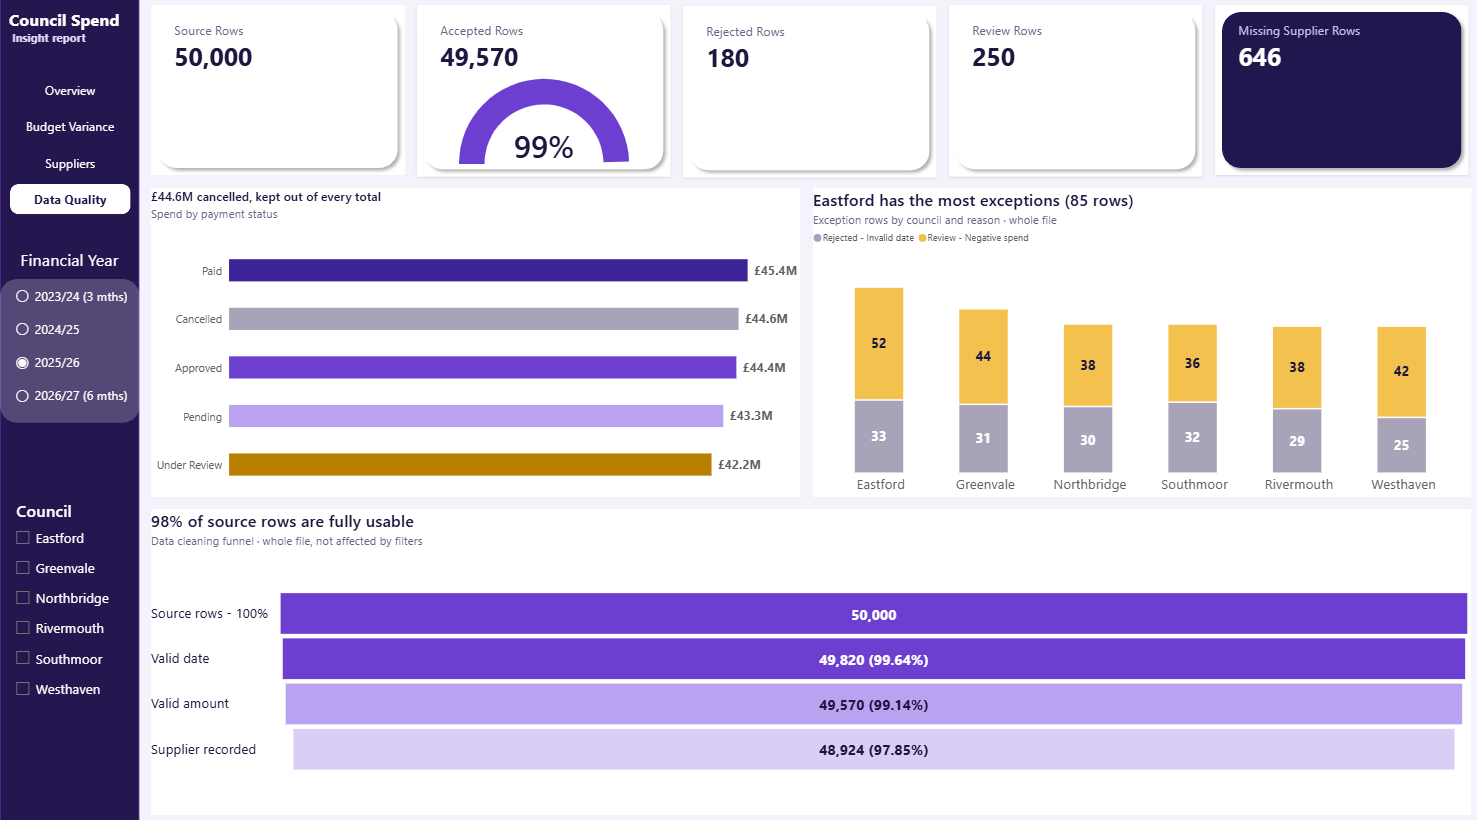

What the dashboard file says about the page in this screenshot:
{"tool":"powerbi","page":{"name":"Data Quality","canvas":[1920,1080],"ordinal":3},"visuals":[{"type":"shape","box":[0,0,180,1079.6],"z":0},{"type":"shape","box":[196,16,328,219.9],"z":0,"group":"g1"},{"type":"shape","box":[540,16,327.5,221.6],"z":0,"group":"g2"},{"type":"shape","box":[1228,16,327.5,221.6],"z":0,"group":"g3"},{"type":"shape","box":[1572,16,328,220],"z":0,"group":"g4"},{"type":"shape","box":[884.1,16.2,327.5,221.6],"z":0,"group":"g5"},{"type":"cardVisual","fields":{"Data":["Council_Spending_final.Source Rows Text"]},"box":[210,26,300,90],"z":1000,"group":"g1"},{"type":"cardVisual","fields":{"Data":["Council_Spending_final.Accepted Rows Text"]},"box":[554,26,300,90],"z":1000,"group":"g2"},{"type":"cardVisual","fields":{"Data":["Council_Spending_final.Review Rows"]},"box":[1242,26,300,90],"z":1000,"group":"g3"},{"type":"cardVisual","fields":{"Data":["Council_Spending_final.Missing Supplier Rows"]},"box":[1586,26,300,90],"z":1000,"group":"g4"},{"type":"cardVisual","fields":{"Data":["Council_Spending_final.Rejected Rows"]},"box":[898.1,26.2,300,90],"z":1000,"group":"g5"},{"type":"slicer","fields":{"Values":["Council_Spending_final.Financial Year"]},"box":[12.8,370.5,180.7,186.2],"z":1000},{"type":"gauge","fields":{"Y":["Council_Spending_final.Data Accepted %"]},"box":[594,106,220,120],"z":2000,"group":"g2"},{"type":"slicer","fields":{"Values":["Council_Spending_final.Council Short"]},"box":[12.8,655.2,155.1,277.4],"z":2000},{"type":"textbox","box":[12,20,156,60],"z":3000},{"type":"pageNavigator","box":[12.8,105.9,156,180],"z":4000},{"type":"shape","box":[0,370.5,180.7,186.2],"z":5000},{"type":"textbox","box":[0,330.1,179.7,39.7],"z":6000},{"type":"group","id":"g1","title":"Tile Paid","box":[196,16,328,219.9],"z":7000},{"type":"group","id":"g2","title":"Tile Recorded","box":[540,16,327.5,221.6],"z":8000},{"type":"group","id":"g3","title":"Tile Pending","box":[1228,16,327.5,221.6],"z":9000},{"type":"group","id":"g4","title":"Tile Variance","box":[1572,16,328,220],"z":10000},{"type":"group","id":"g5","title":"Tile Pending","box":[884.1,16.2,327.5,221.6],"z":11000},{"type":"columnChart","title":"Eastford has the most exceptions (85 rows)","fields":{"Category":["Council_exceptions.Council Short"],"Series":["Council_exceptions.Row_Status"],"Y":["CountNonNull(Council_exceptions.transaction_id)"]},"box":[1052,252,852,400],"z":12000},{"type":"funnel","title":"98% of source rows are fully usable","fields":{"Category":["Cleaning Stages.Stage"],"Y":["Cleaning Stages.Funnel Rows"]},"box":[196,668,1708,396],"z":13000},{"type":"clusteredBarChart","fields":{"Category":["Council_Spending_final.payment_status"],"Y":["Council_Spending_final.Spend Amount"]},"box":[196,252,840,400],"z":14000}]}

Visuals, with their boxes on the page's 1920x1080 design canvas (x1, y1, x2, y2). These are canvas units, not pixel positions in the 1477x820 screenshot, which may show the page scaled, cropped or inside an application window:
shape: Rect(0, 0, 180, 1080)
shape: Rect(196, 16, 524, 236)
shape: Rect(540, 16, 868, 238)
shape: Rect(1228, 16, 1556, 238)
shape: Rect(1572, 16, 1900, 236)
shape: Rect(884, 16, 1212, 238)
cardVisual - Council_Spending_final.Source Rows Text: Rect(210, 26, 510, 116)
cardVisual - Council_Spending_final.Accepted Rows Text: Rect(554, 26, 854, 116)
cardVisual - Council_Spending_final.Review Rows: Rect(1242, 26, 1542, 116)
cardVisual - Council_Spending_final.Missing Supplier Rows: Rect(1586, 26, 1886, 116)
cardVisual - Council_Spending_final.Rejected Rows: Rect(898, 26, 1198, 116)
slicer - Council_Spending_final.Financial Year: Rect(13, 370, 194, 557)
gauge - Council_Spending_final.Data Accepted %: Rect(594, 106, 814, 226)
slicer - Council_Spending_final.Council Short: Rect(13, 655, 168, 933)
textbox: Rect(12, 20, 168, 80)
pageNavigator: Rect(13, 106, 169, 286)
shape: Rect(0, 370, 181, 557)
textbox: Rect(0, 330, 180, 370)
"Tile Paid" group: Rect(196, 16, 524, 236)
"Tile Recorded" group: Rect(540, 16, 868, 238)
"Tile Pending" group: Rect(1228, 16, 1556, 238)
"Tile Variance" group: Rect(1572, 16, 1900, 236)
"Tile Pending" group: Rect(884, 16, 1212, 238)
"Eastford has the most exceptions (85 rows)" columnChart: Rect(1052, 252, 1904, 652)
"98% of source rows are fully usable" funnel: Rect(196, 668, 1904, 1064)
clusteredBarChart - Council_Spending_final.payment_status x Council_Spending_final.Spend Amount: Rect(196, 252, 1036, 652)
